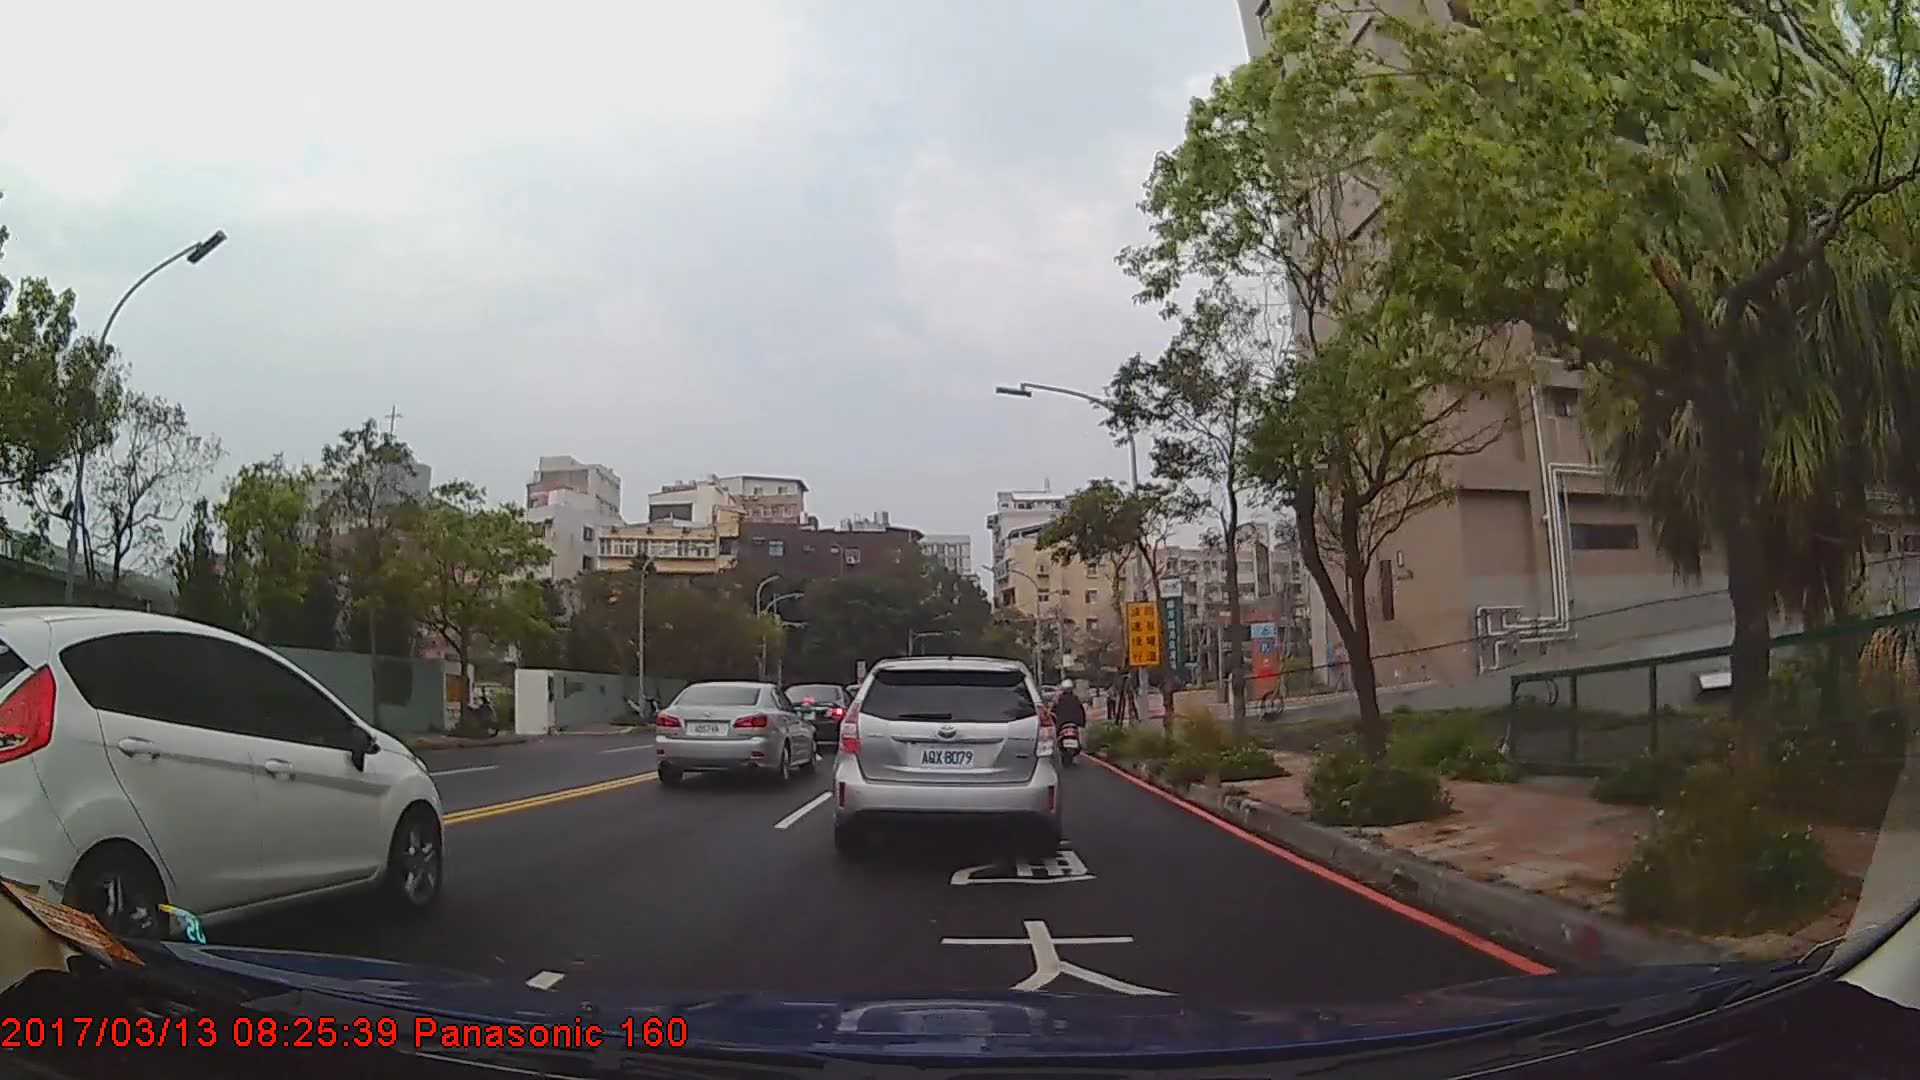rider: (1054, 682, 1089, 767)
vehicle: (0, 606, 446, 976), (829, 651, 1060, 852), (655, 680, 818, 786), (777, 682, 853, 748)
